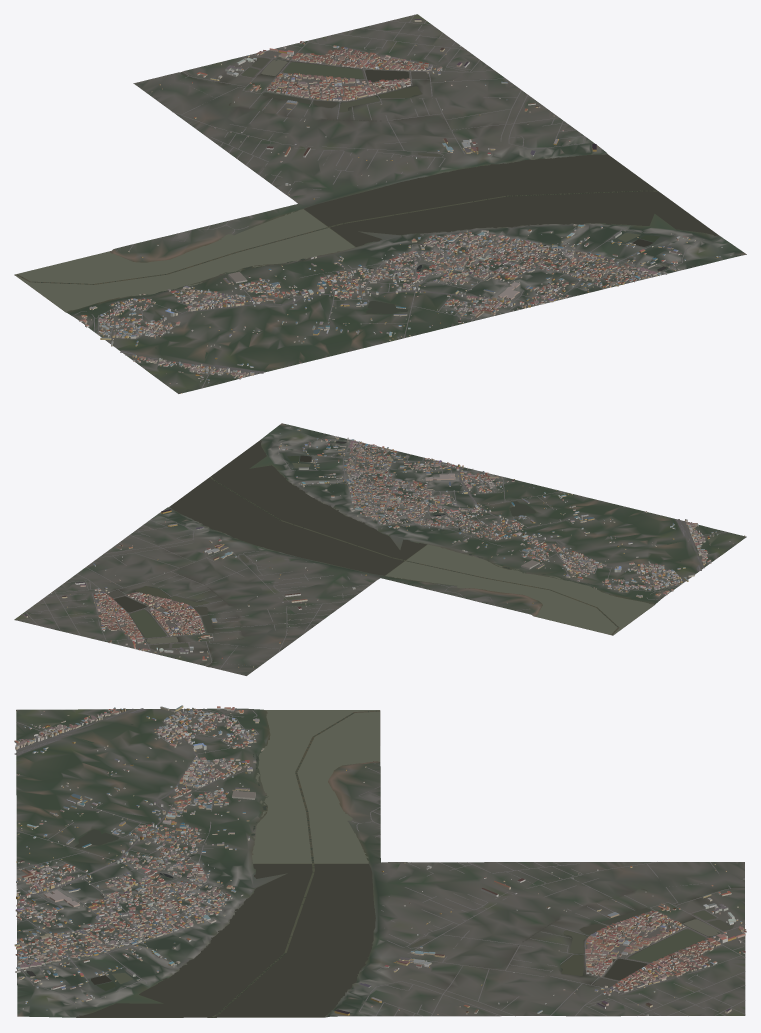
3 renders of one model, top to bottom at view 1: azimuth 30°, elevation 25°; view 2: azimuth 150°, elevation 25°; view 3: azimuth 270°, elevation 25°, orthographic. The views are drawn at different scales.
Visible parts, largest first — view 1: ground, water, buildings, roads; view 2: ground, water, buildings, roads; view 3: ground, water, buildings, roads.
Part boxes in pixels (<box>): ground: <box>14,14,746,393</box>; water: <box>15,58,719,358</box>; buildings: <box>79,19,731,393</box>; roads: <box>72,14,704,388</box>; ground: <box>14,423,746,675</box>; water: <box>107,440,680,666</box>; buildings: <box>24,426,744,669</box>; roads: <box>16,438,727,669</box>; ground: <box>16,708,745,1017</box>; water: <box>26,710,744,1017</box>; buildings: <box>14,705,746,1015</box>; roads: <box>14,708,745,1016</box>.
Bounding box in the file's own units: 2819 × 29.28 × 2822.
